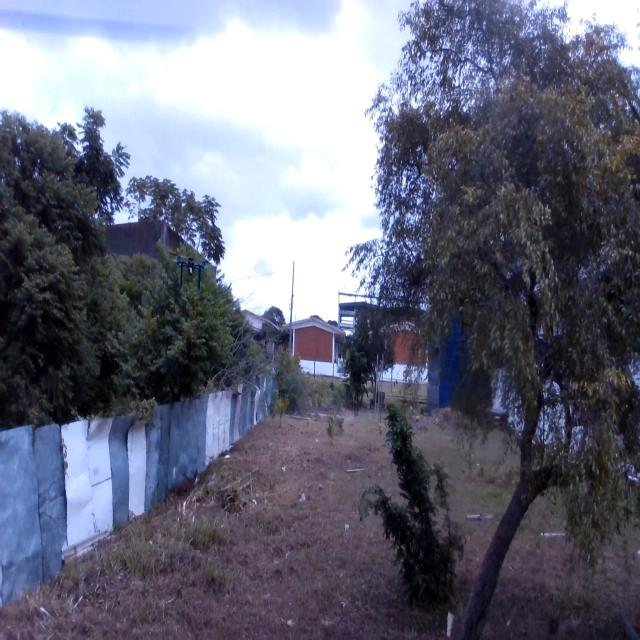-uav-: (172, 244, 214, 300)
